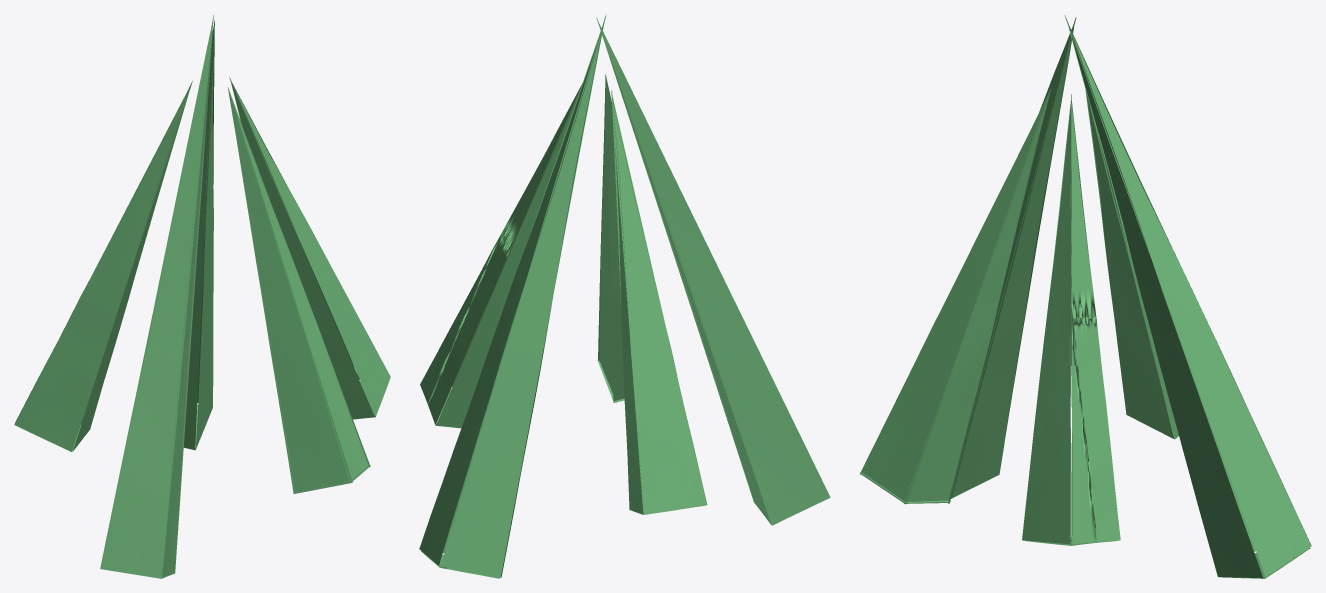
Rendered from grass_tuft.glb.
The picture shows the model from 3 angles, left to right: view 1: azimuth 30°, elevation 25°; view 2: azimuth 150°, elevation 25°; view 3: azimuth 270°, elevation 25°; orthographic projection. The views are drawn at different scales.
Parts seen in each view (by area): view 1: Grass0; view 2: Grass0; view 3: Grass0.
Part boxes in pixels (bbox=[...]): Grass0: bbox=[14, 15, 390, 578]; Grass0: bbox=[419, 14, 830, 578]; Grass0: bbox=[860, 15, 1311, 578].
Size of the model in its own units: 0.5289 by 0.7251 by 0.5544.
